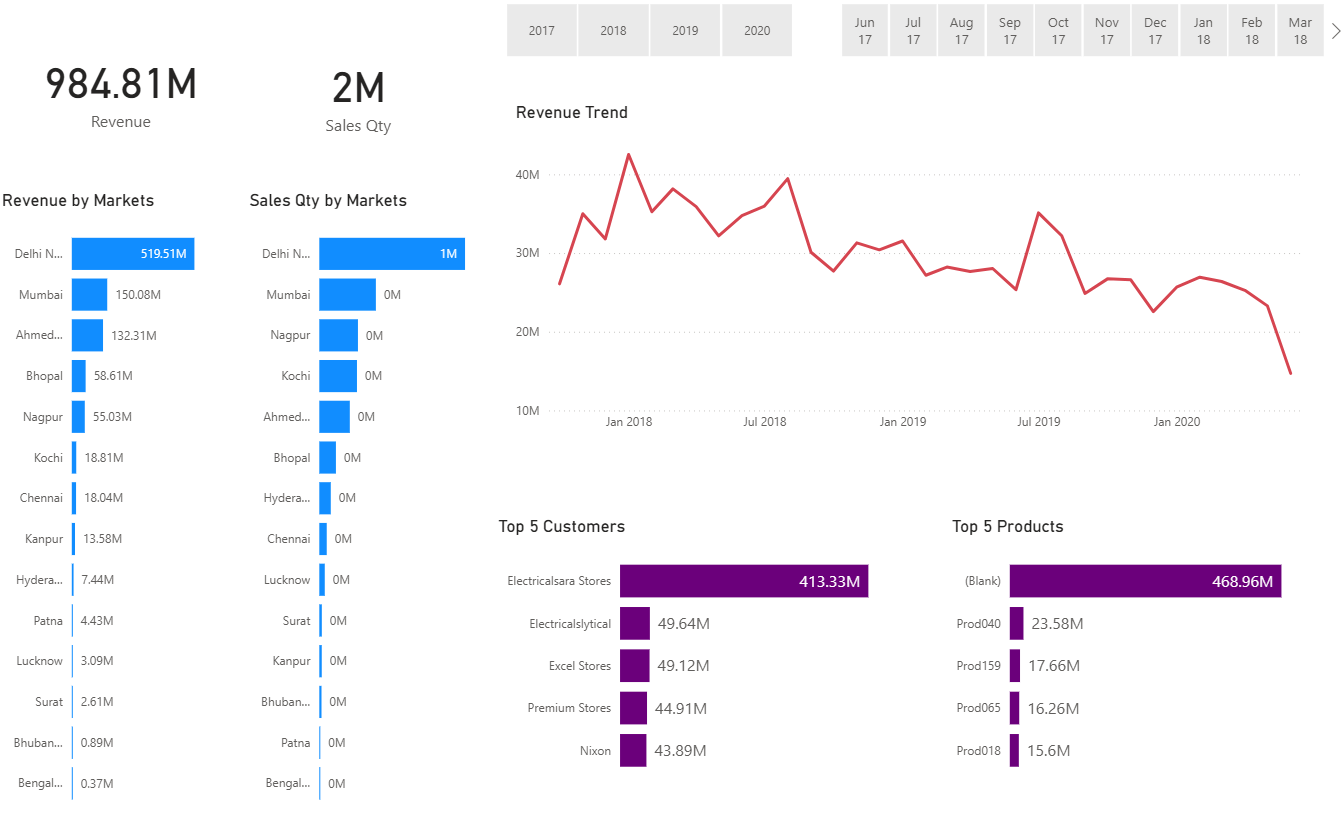

The dashboard page shown, as its layout file describes it:
{"tool":"powerbi","page":{"name":"Page 1","canvas":[1350,850],"ordinal":0},"visuals":[{"type":"card","fields":{"Values":["BaseMeasures (2).Revenue"]},"box":[0,0,247.9,184.6],"z":0},{"type":"card","fields":{"Values":["BaseMeasures (2).Sales Qty"]},"box":[247.9,0,227.9,193.1],"z":1000},{"type":"barChart","title":"Revenue by Markets","fields":{"Y":["BaseMeasures (2).Revenue"],"Category":["sales markets.markets_name"]},"box":[0,193.1,247.9,631.9],"z":2000},{"type":"barChart","title":"Sales Qty by Markets","fields":{"Y":["BaseMeasures (2).Sales Qty"],"Category":["sales markets.markets_name"]},"box":[247.9,193.1,247.9,631.9],"z":3000},{"type":"slicer","fields":{"Values":["sales date.year"]},"box":[483.2,0,335.5,66.5],"z":4000},{"type":"slicer","fields":{"Values":["sales date.cy_date"]},"box":[818.6,0,531.7,66.5],"z":5000},{"type":"barChart","title":"Top 5 Customers","fields":{"Y":["BaseMeasures (2).Revenue"],"Category":["sales customers.custmer_name"]},"box":[495.8,519,446.2,274.3],"z":6000},{"type":"barChart","title":"Top 5 Products","fields":{"Y":["BaseMeasures (2).Revenue"],"Category":["sales products.product_code"]},"box":[950.5,519,399.8,274.3],"z":7000},{"type":"lineChart","title":"Revenue Trend","fields":{"Y":["BaseMeasures (2).Revenue"],"Category":["sales date.cy_date"]},"box":[513.8,104.4,809.1,338.6],"z":8000}]}

Visuals, with their boxes in screenshot pixels (x1, y1, x2, y2), scaled from the page's 1350x850 canvas onto the 1341x836 screenshot:
card - BaseMeasures (2).Revenue: [left=0, top=0, right=246, bottom=182]
card - BaseMeasures (2).Sales Qty: [left=246, top=0, right=473, bottom=190]
"Revenue by Markets" barChart: [left=0, top=190, right=246, bottom=811]
"Sales Qty by Markets" barChart: [left=246, top=190, right=492, bottom=811]
slicer - sales date.year: [left=480, top=0, right=813, bottom=65]
slicer - sales date.cy_date: [left=813, top=0, right=1340, bottom=65]
"Top 5 Customers" barChart: [left=492, top=510, right=936, bottom=780]
"Top 5 Products" barChart: [left=944, top=510, right=1340, bottom=780]
"Revenue Trend" lineChart: [left=510, top=103, right=1314, bottom=436]
